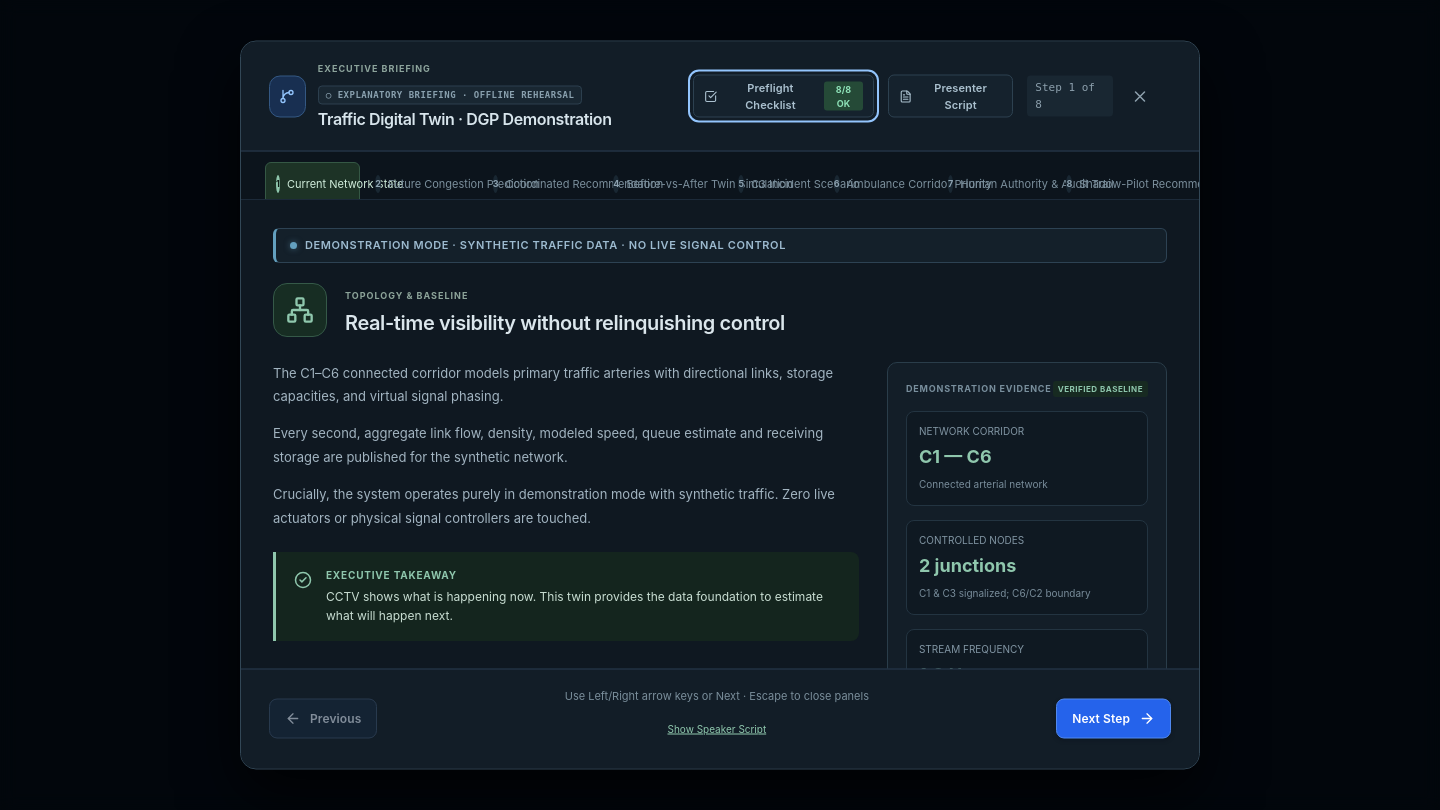
Scenario: Epic 11 S34: Guided 8-Step DGP Demonstration Presentation › allows direct jump to any step via stepper buttons
Click the button with aria-label "Jump to step 5: C3 Incident Scenario": (773, 184) [727, 162, 819, 206]
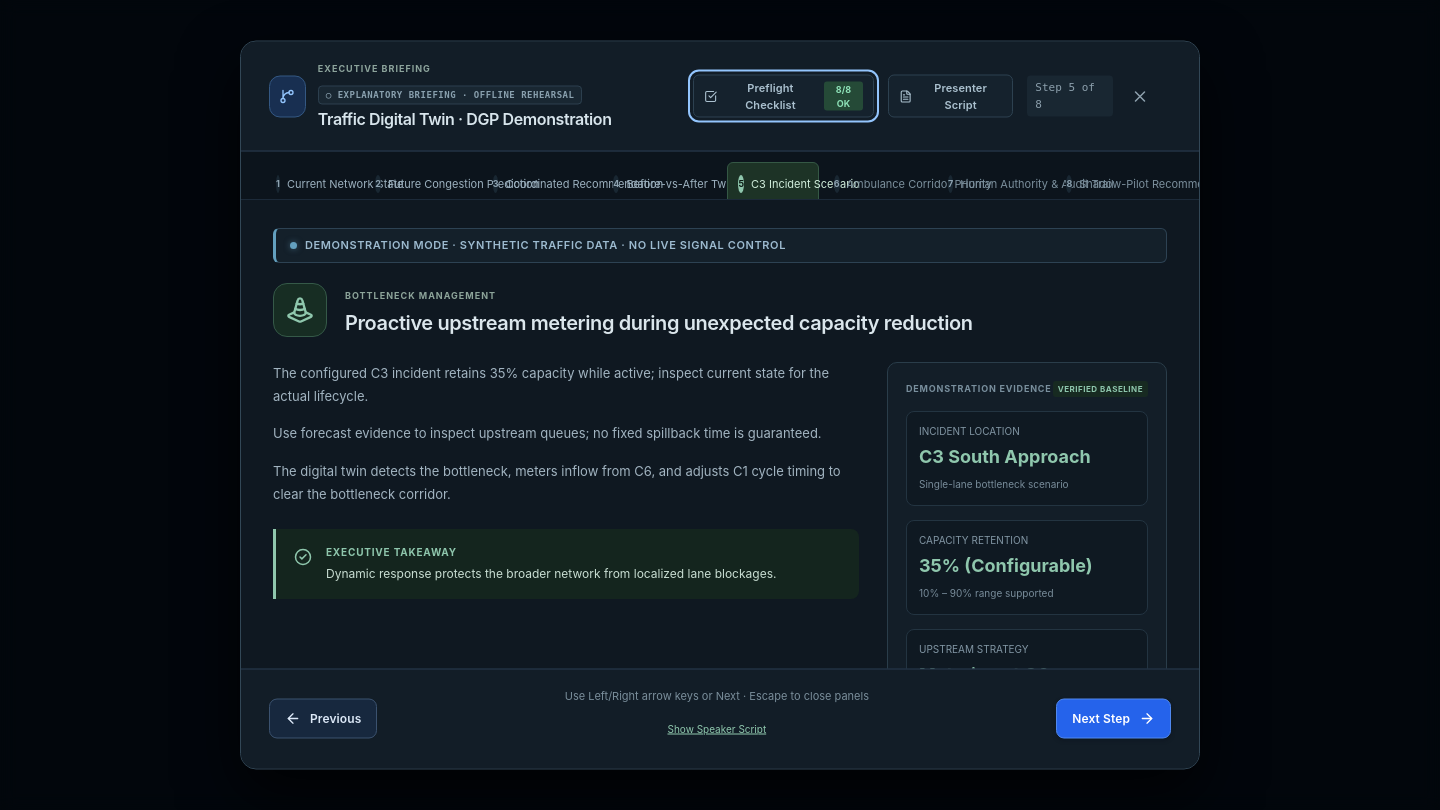
Expected: the text "C3 Incident Scenario" is shown, [751, 175, 860, 192]
Expected: the text "Step 5 of 8" is shown, [1027, 76, 1113, 116]
